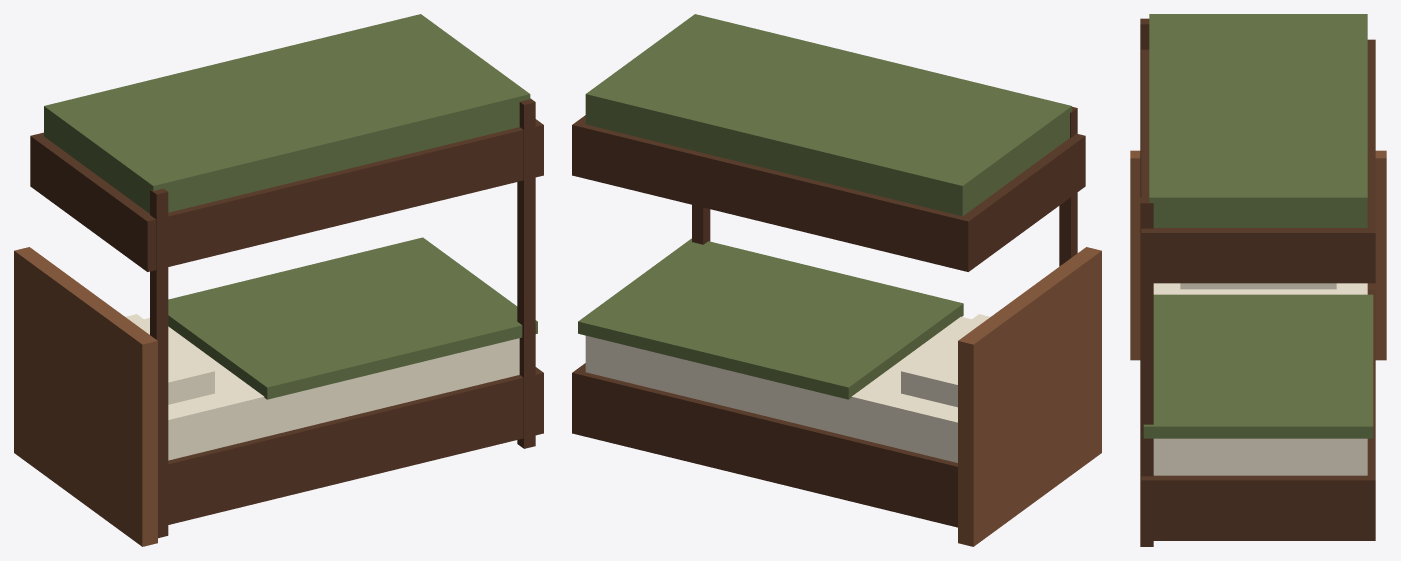
The model's file is fire_bunk_1.glb.
The picture shows the model from 3 angles, left to right: view 1: azimuth 30°, elevation 25°; view 2: azimuth 150°, elevation 25°; view 3: azimuth 270°, elevation 25°; orthographic projection.
Visible parts, largest first — view 1: Box7, Box3, Box5, Box6, Box1, Box2, Box9, Box8, Box4; view 2: Box7, Box3, Box5, Box6, Box1, Box2, Box4, Box8, Box9; view 3: Box7, Box3, Box1, Box6, Box2, Box5, Box9, Box4, Box8.
Boxes of the visible parts, left/top/right/bottom form: Box7: left=44, top=14, right=530, bottom=213; Box3: left=168, top=237, right=537, bottom=399; Box5: left=14, top=247, right=157, bottom=546; Box6: left=30, top=119, right=543, bottom=271; Box1: left=168, top=367, right=543, bottom=524; Box2: left=144, top=318, right=519, bottom=460; Box9: left=517, top=98, right=535, bottom=448; Box8: left=150, top=188, right=168, bottom=538; Box4: left=125, top=314, right=214, bottom=404; Box7: left=585, top=14, right=1071, bottom=216; Box3: left=578, top=238, right=963, bottom=399; Box5: left=958, top=247, right=1101, bottom=546; Box6: left=572, top=115, right=1085, bottom=271; Box1: left=572, top=363, right=957, bottom=527; Box2: left=585, top=316, right=971, bottom=462; Box4: left=901, top=314, right=990, bottom=407; Box8: left=1059, top=106, right=1077, bottom=266; Box9: left=692, top=205, right=710, bottom=244; Box7: left=1149, top=14, right=1367, bottom=227; Box3: left=1143, top=294, right=1373, bottom=438; Box1: left=1141, top=289, right=1375, bottom=540; Box6: left=1141, top=39, right=1375, bottom=283; Box2: left=1153, top=283, right=1367, bottom=475; Box5: left=1130, top=150, right=1386, bottom=360; Box9: left=1140, top=197, right=1153, bottom=546; Box4: left=1180, top=283, right=1336, bottom=289; Box8: left=1140, top=18, right=1149, bottom=197.
Bounding box in the file's own units: 2.1 × 1.72 × 1.15.
